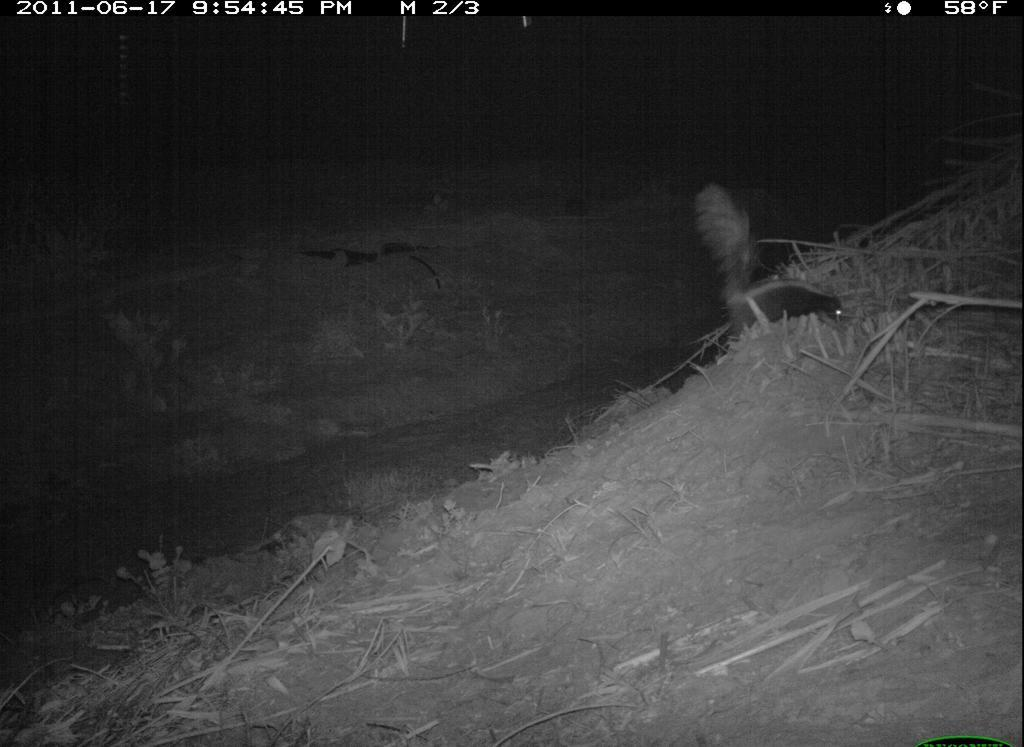skunk: (673, 175, 852, 350)
